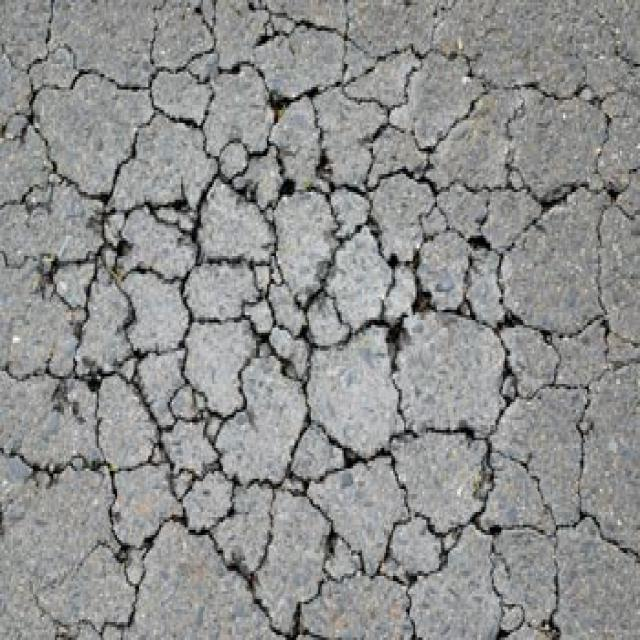Drain Hole: (35, 5, 640, 640)
